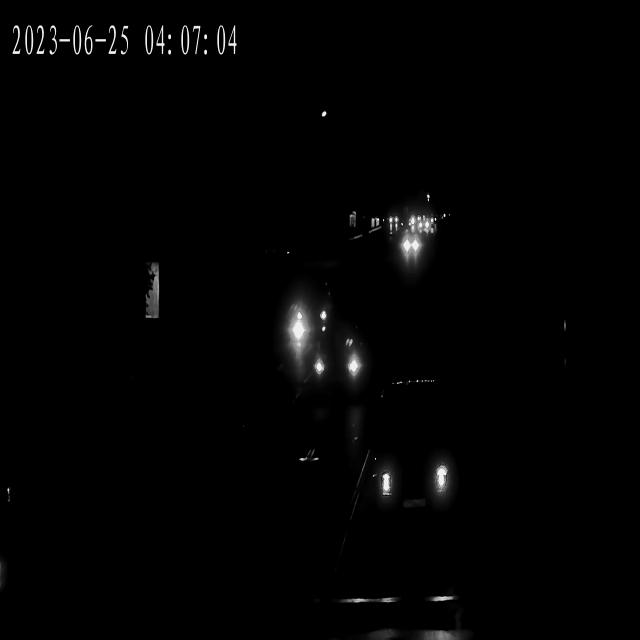Car: (362, 413, 461, 517), (306, 335, 372, 397), (285, 294, 331, 345), (397, 235, 421, 258), (401, 233, 424, 255), (416, 220, 432, 233)
